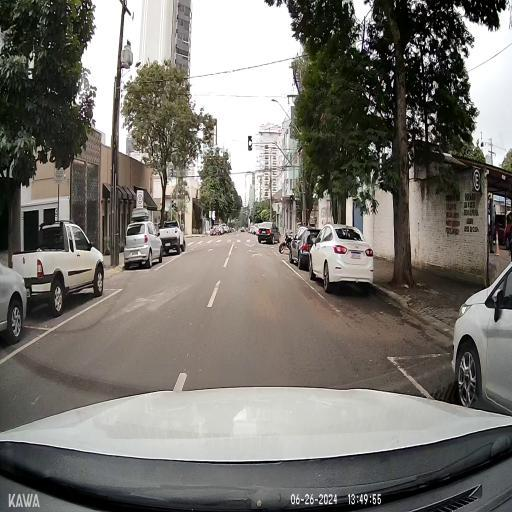R-6b: (138, 194, 142, 204)
